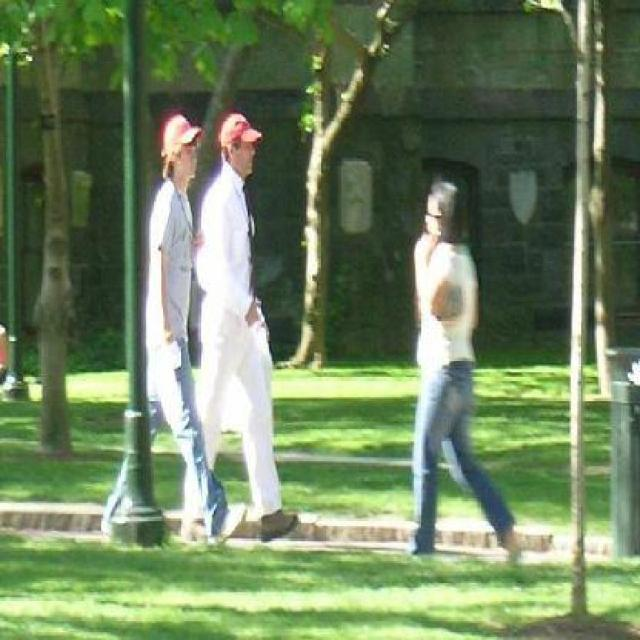obstacle: (181, 103, 305, 549), (409, 177, 534, 566), (143, 108, 245, 548)
